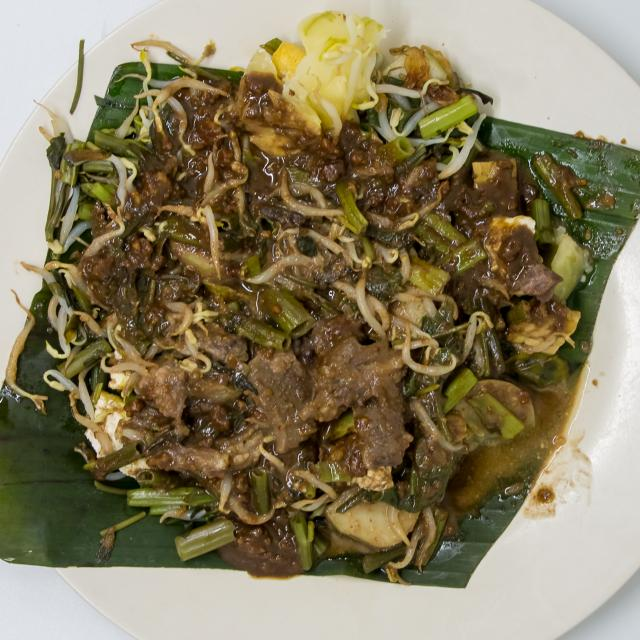Rujak-Cingur: (43, 7, 581, 589)
